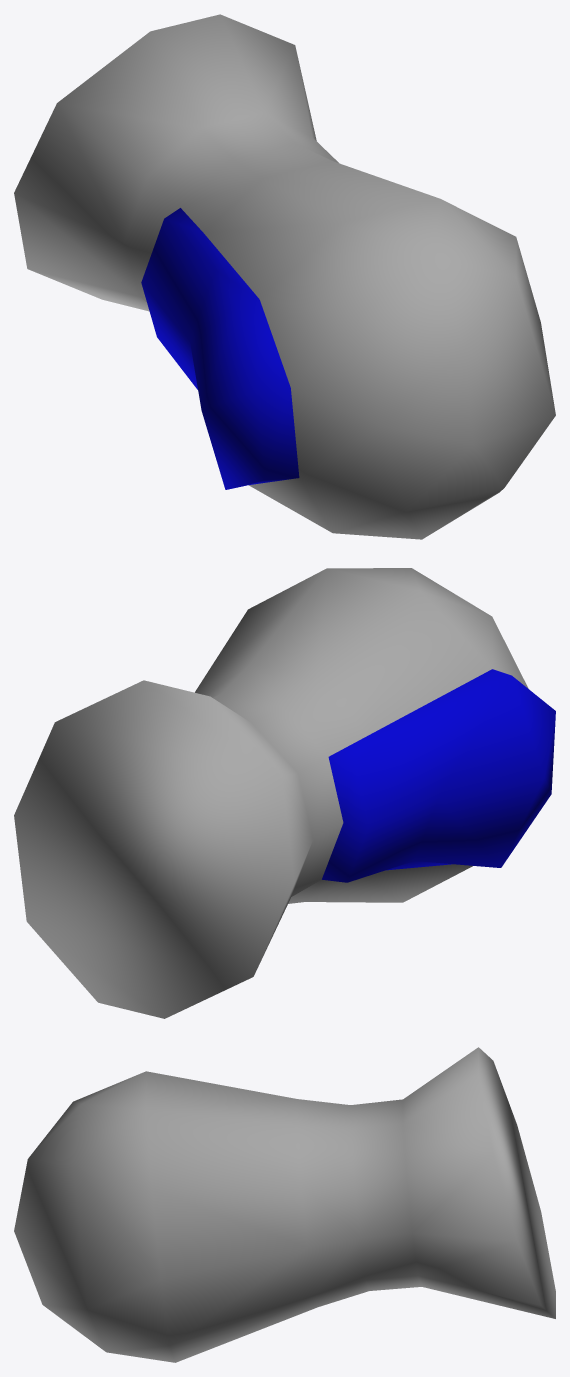
The model's file is lthigh.obj.
3 renders of one model, top to bottom at view 1: azimuth 30°, elevation 25°; view 2: azimuth 150°, elevation 25°; view 3: azimuth 270°, elevation 25°, orthographic. The views are drawn at different scales.
Parts seen in each view (by area): view 1: thigh.000_Sphere.003; view 2: thigh.000_Sphere.003; view 3: thigh.000_Sphere.003.
Part boxes in pixels (box(x1,y1,x2,y2)): thigh.000_Sphere.003: box(14, 14, 555, 539); thigh.000_Sphere.003: box(14, 568, 555, 1018); thigh.000_Sphere.003: box(14, 1047, 555, 1362).
Size of the model in its own units: 1.52 by 1.48 by 2.57.
